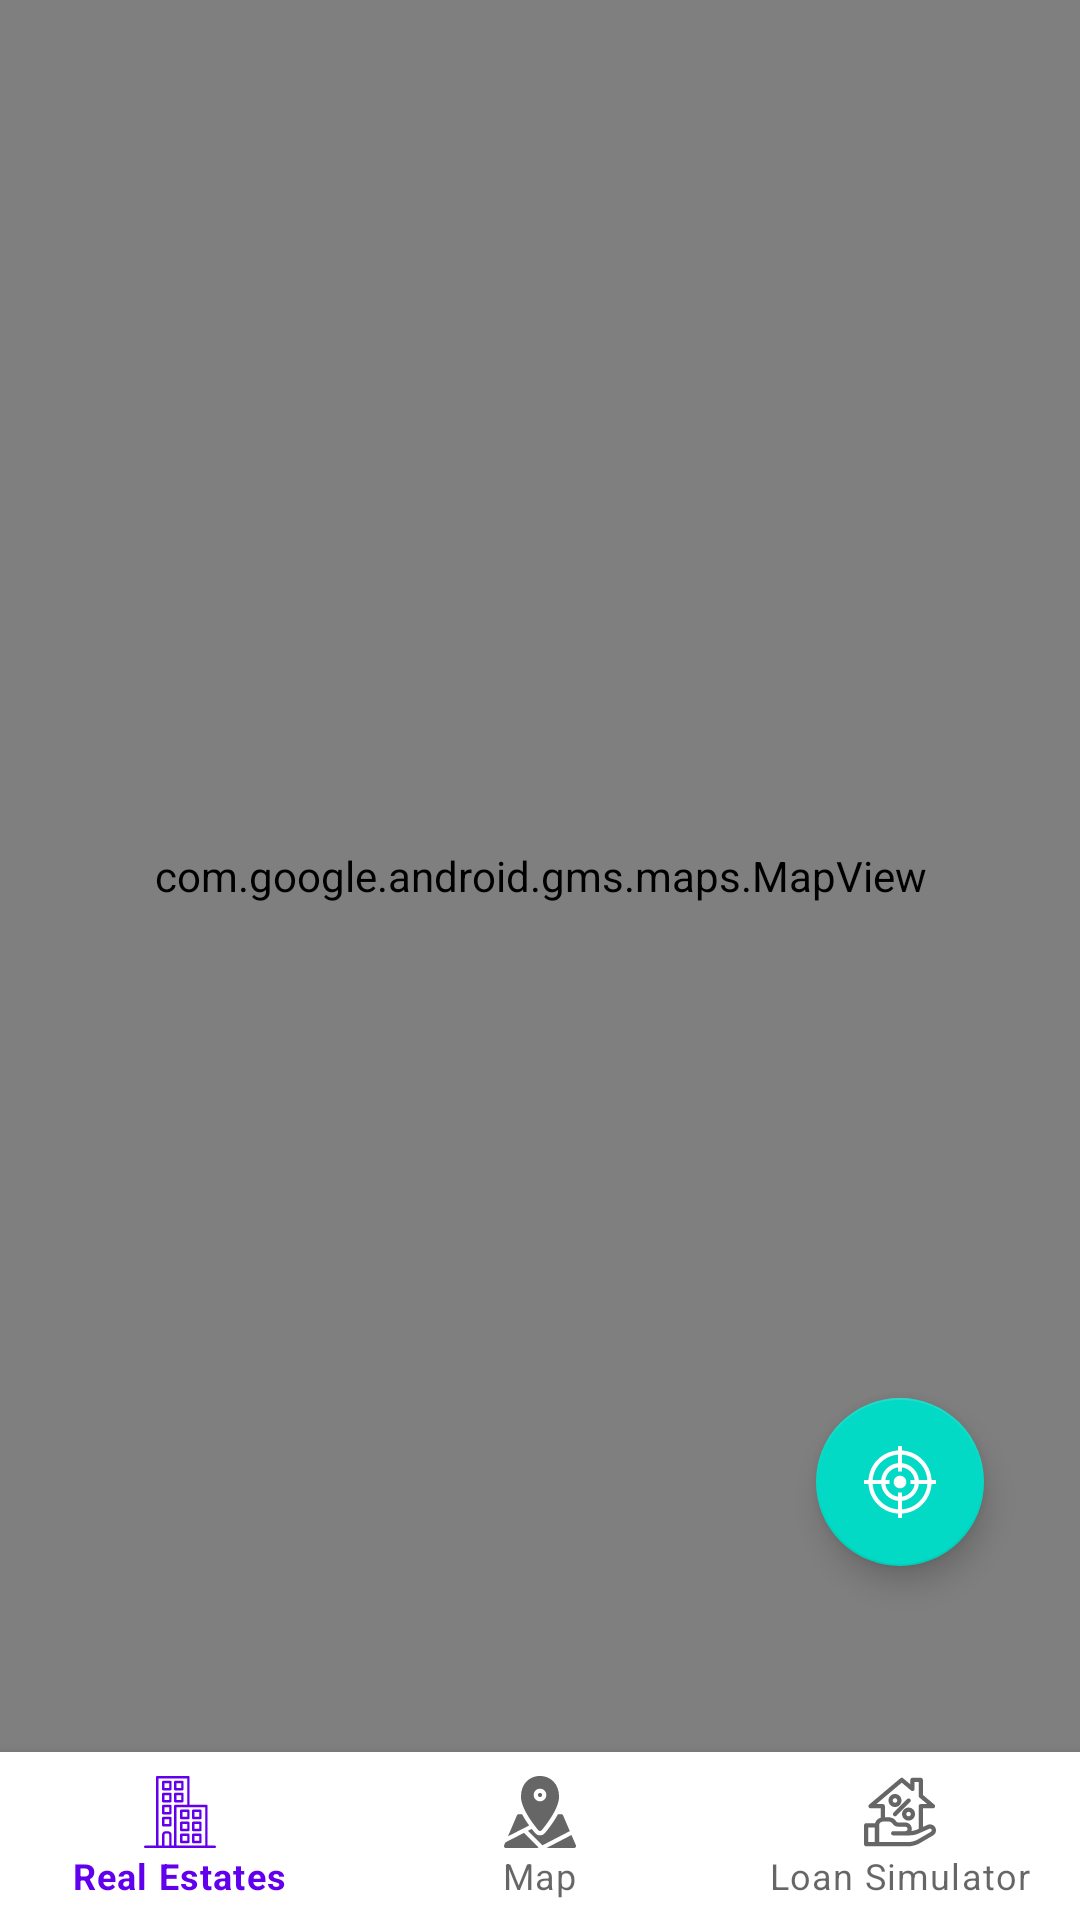

Icons on this 1080 × 1920 Android screen, each with the point to tap as [x,y]:
target: [900,1482]
